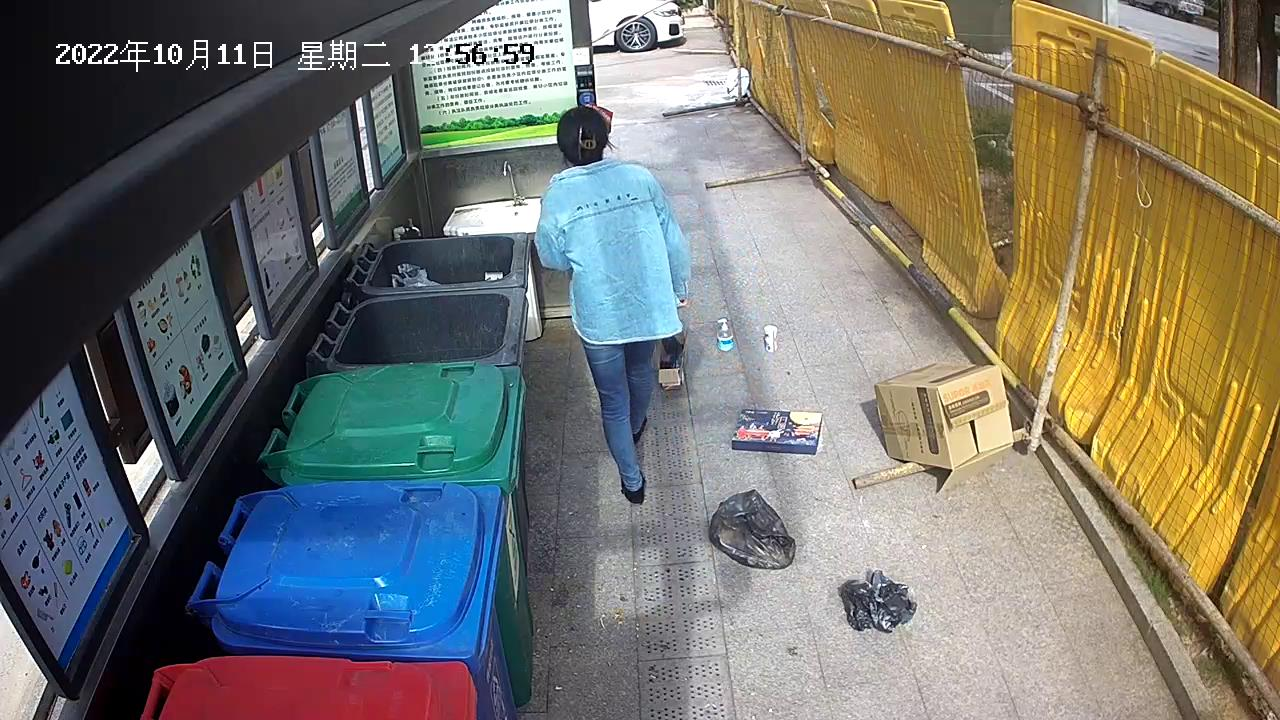garbage-bag: (703, 485, 800, 573), (835, 565, 924, 640)
lvzhipin: (759, 322, 783, 355)
suliaozhipin: (711, 314, 738, 352)
worker: (530, 101, 697, 512)
zhizhipin: (866, 356, 1021, 499), (726, 402, 826, 459)
